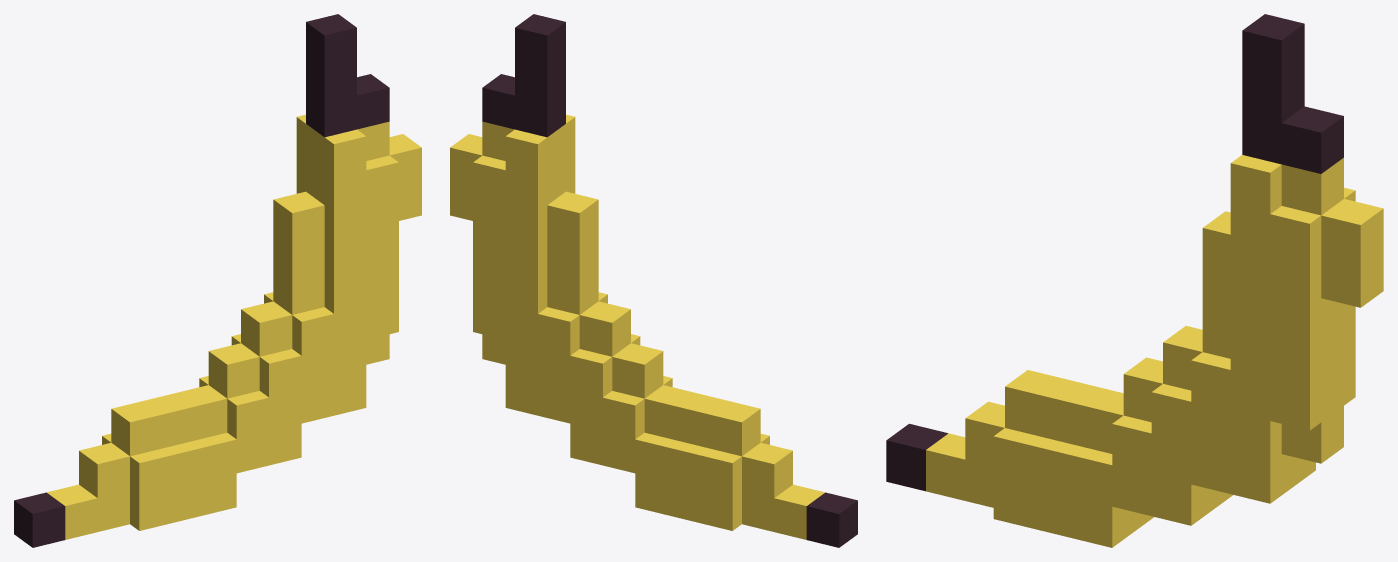
The model's file is Banana.fbx.
3 views of the same model, side by side, from view 1: azimuth 30°, elevation 25°; view 2: azimuth 150°, elevation 25°; view 3: azimuth 330°, elevation 25° (orthographic). The views are drawn at different scales.
Visible parts, largest first — view 1: generated; view 2: generated; view 3: generated.
Boxes of the visible parts, x1=… form: generated: x1=14, y1=14, x2=421, y2=547; generated: x1=450, y1=14, x2=857, y2=547; generated: x1=886, y1=14, x2=1383, y2=547.
Size of the model in its own units: 120 by 130 by 20.
